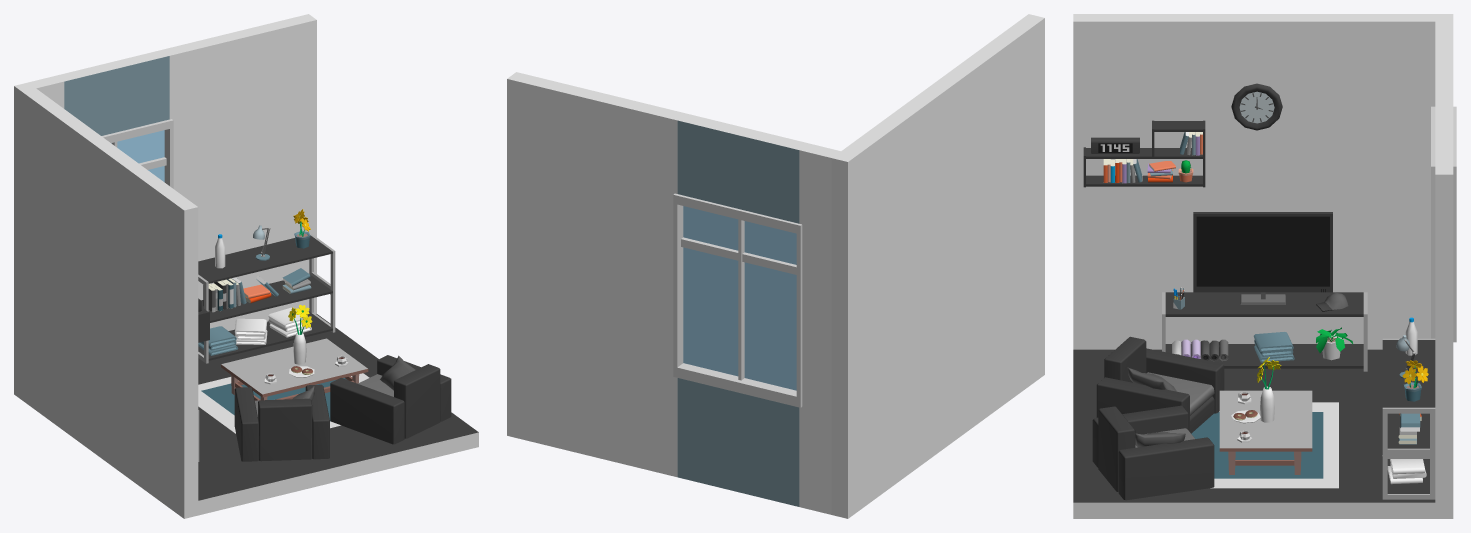
The model's file is room_13.glb.
The picture shows the model from 3 angles, left to right: view 1: azimuth 30°, elevation 25°; view 2: azimuth 150°, elevation 25°; view 3: azimuth 270°, elevation 25°; orthographic projection. The views are drawn at different scales.
Parts seen in each view (by area): view 1: Walls_006.039, Walls_006.040, Walls_011.007, armchair_002.002, Walls_116.013, shelf_010.001, armchair_002.001, coffee_table_019.002, window_019.002, carpet_004.004, prop_001.029, clothes_007.005 (+5 smaller); view 2: Walls_006.039, Walls_006.040, window_019.002, Walls_116.014, Walls_006.041, Walls_116.013; view 3: Walls_006.039, Walls_011.007, electronics_031.009, armchair_002.002, Walls_006.040, armchair_002.001, shelf_071.001, shelf_010.001, carpet_004.004, coffee_table_019.002, shelf_044.001, window_019.002 (+12 smaller).
Part boxes in pixels (<box>): Walls_006.039: <box>14,82,198,518</box>; Walls_006.040: <box>162,14,316,330</box>; Walls_011.007: <box>198,314,478,515</box>; armchair_002.002: <box>330,355,451,444</box>; Walls_116.013: <box>56,50,169,135</box>; shelf_010.001: <box>198,234,335,363</box>; armchair_002.001: <box>234,384,329,461</box>; coffee_table_019.002: <box>221,338,368,400</box>; window_019.002: <box>101,119,173,188</box>; carpet_004.004: <box>198,373,369,433</box>; prop_001.029: <box>203,277,246,312</box>; clothes_007.005: <box>234,318,267,344</box>; Walls_006.039: <box>831,14,1044,518</box>; Walls_006.040: <box>507,72,686,477</box>; window_019.002: <box>673,193,802,407</box>; Walls_116.014: <box>677,378,799,506</box>; Walls_006.041: <box>799,143,840,514</box>; Walls_116.013: <box>677,113,808,223</box>; Walls_006.039: <box>1073,14,1453,349</box>; Walls_011.007: <box>1073,349,1435,518</box>; electronics_031.009: <box>1193,212,1332,304</box>; armchair_002.002: <box>1092,405,1214,500</box>; Walls_006.040: <box>1435,94,1453,518</box>; armchair_002.001: <box>1096,336,1224,433</box>; shelf_071.001: <box>1162,292,1367,371</box>; shelf_010.001: <box>1382,338,1435,499</box>; carpet_004.004: <box>1191,402,1338,488</box>; coffee_table_019.002: <box>1219,390,1312,474</box>; shelf_044.001: <box>1083,120,1205,187</box>; window_019.002: <box>1431,106,1456,342</box>.
Bounding box in the file's own units: 4.2 × 4.2 × 4.24.
Materials: 1 (1 with a texture image).
